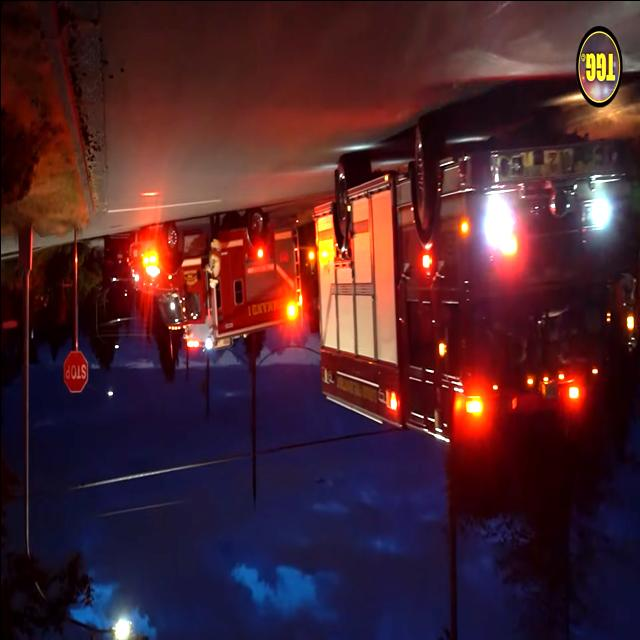emergency-vehicles: (288, 110, 640, 448), (120, 207, 326, 361)
